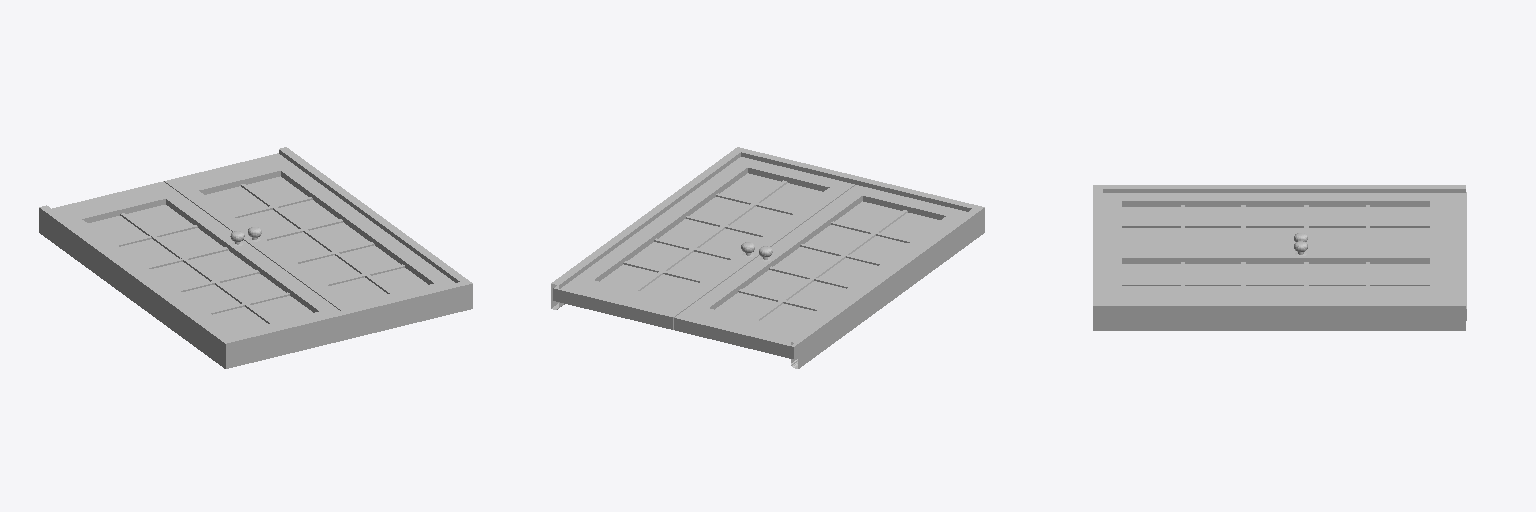
The model's file is doorObj.obj.
3 views of the same model, side by side, from view 1: azimuth 30°, elevation 25°; view 2: azimuth 150°, elevation 25°; view 3: azimuth 270°, elevation 25° (orthographic).
Visible parts, largest first — view 1: DoubleFrenchDoorMullions60x124; view 2: DoubleFrenchDoorMullions60x124; view 3: DoubleFrenchDoorMullions60x124.
Part boxes in pixels (x1,y1,x2,y2): DoubleFrenchDoorMullions60x124: (39,147,472,368); DoubleFrenchDoorMullions60x124: (551,147,984,368); DoubleFrenchDoorMullions60x124: (1093,185,1466,330).
Bounding box in the file's own units: 159 × 21.74 × 207.